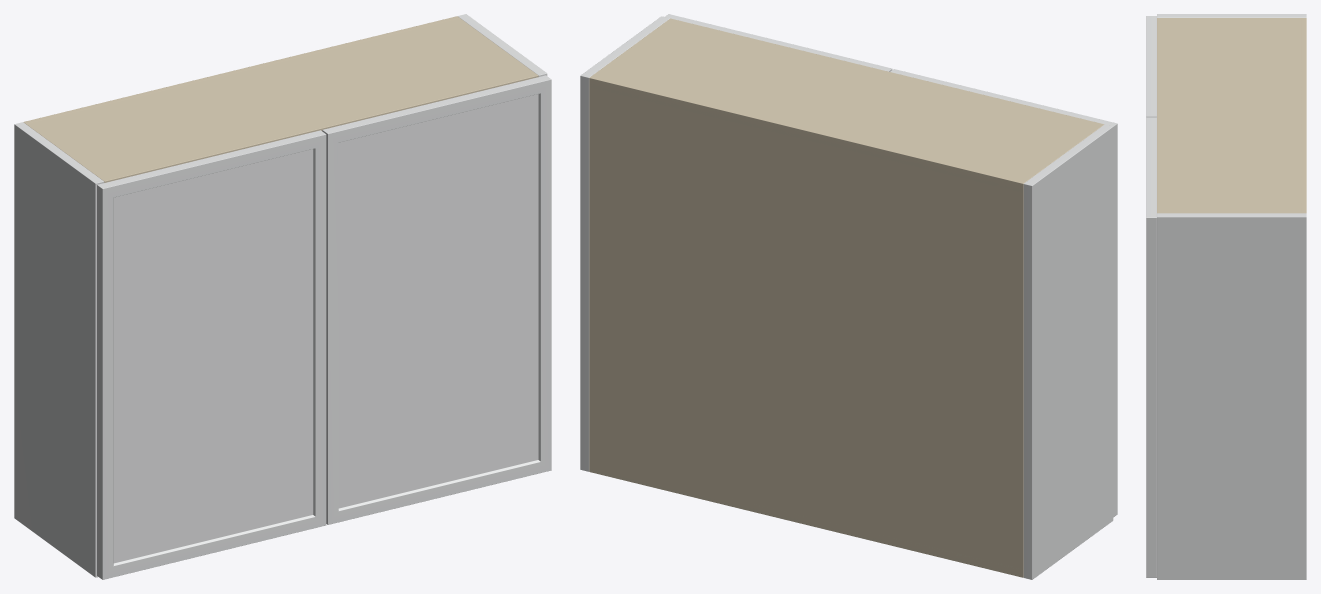
File: oppein-ply-ssw-w3630.glb
3 renders of one model, left to right at view 1: azimuth 30°, elevation 25°; view 2: azimuth 150°, elevation 25°; view 3: azimuth 270°, elevation 25°, orthographic. The views are drawn at different scales.
Visible parts, largest first — view 1: Door, Door.001, Cabinet top, Cabinet side, Cabinet back, Cabinet side.001; view 2: Cabinet back, Cabinet top, Cabinet side, Cabinet side.001, Door, Cabinet bottom, Door.001; view 3: Cabinet side.001, Cabinet top, Door.001, Cabinet back, Door, Cabinet side.
Part boxes in pixels (left/top/right/bottom): Door: left=97, top=130, right=326, bottom=579; Door.001: left=322, top=75, right=551, bottom=524; Cabinet top: left=23, top=18, right=538, bottom=182; Cabinet side: left=14, top=122, right=104, bottom=577; Cabinet back: left=24, top=16, right=459, bottom=124; Cabinet side.001: left=458, top=14, right=547, bottom=76; Cabinet back: left=589, top=75, right=1026, bottom=577; Cabinet top: left=589, top=18, right=1103, bottom=192; Cabinet side: left=1023, top=124, right=1113, bottom=579; Cabinet side.001: left=580, top=16, right=669, bottom=471; Door: left=890, top=69, right=1117, bottom=517; Cabinet bottom: left=589, top=467, right=1023, bottom=577; Door.001: left=665, top=14, right=892, bottom=71; Cabinet side.001: left=1157, top=213, right=1306, bottom=579; Cabinet top: left=1157, top=18, right=1306, bottom=213; Door.001: left=1146, top=117, right=1156, bottom=577; Cabinet back: left=1300, top=18, right=1306, bottom=213; Door: left=1146, top=16, right=1156, bottom=117; Cabinet side: left=1157, top=14, right=1306, bottom=17.
Bounding box in the file's own units: 0.9144 × 0.762 × 0.3048.
